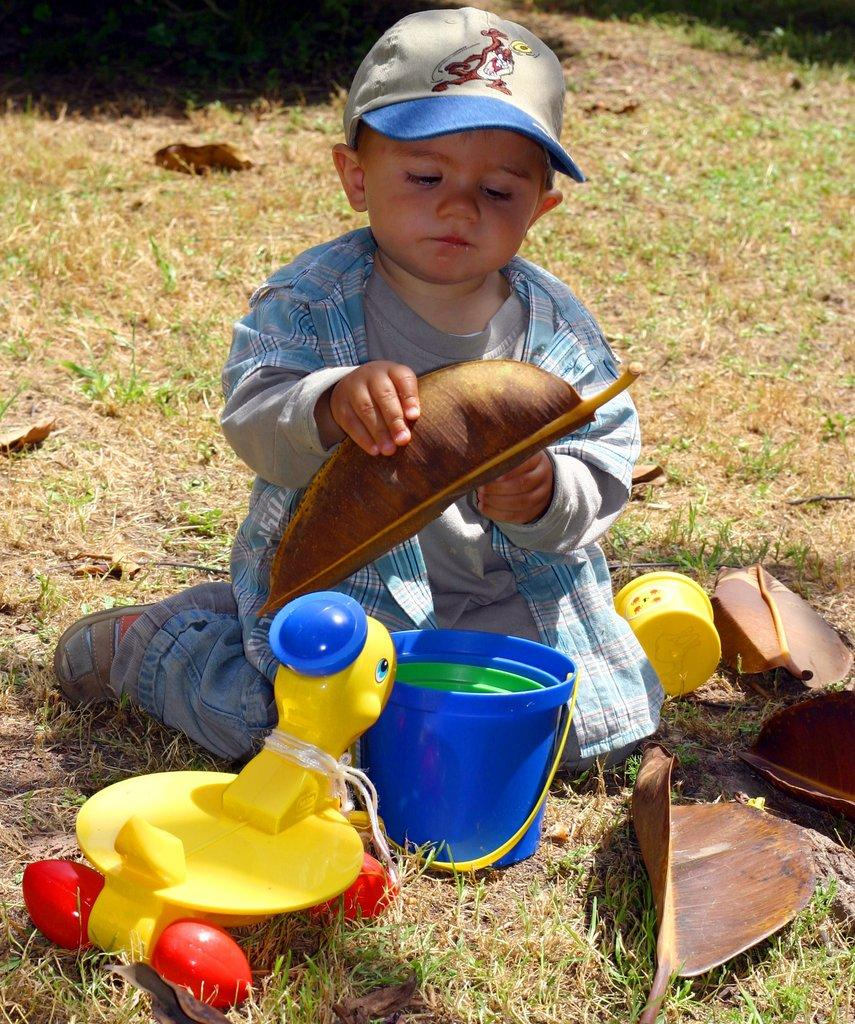Hat: (344, 6, 584, 180)
